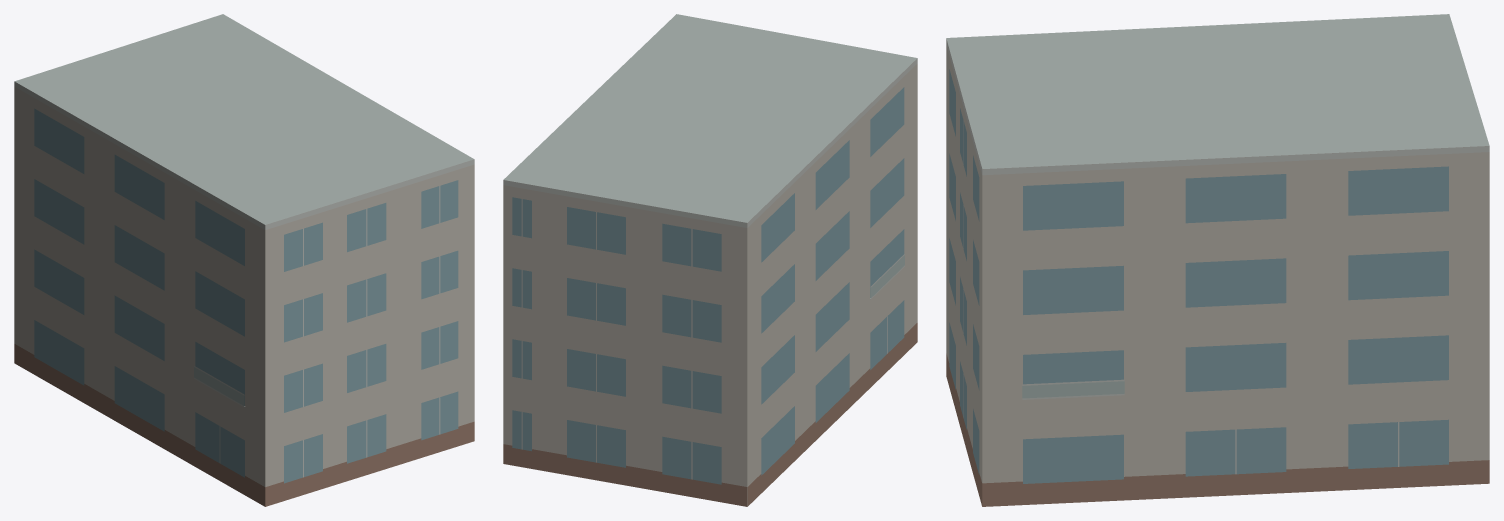
Rendered from survey-upis-32895162.glb.
The picture shows the model from 3 angles, left to right: view 1: azimuth 30°, elevation 25°; view 2: azimuth 150°, elevation 25°; view 3: azimuth 270°, elevation 25°; orthographic projection. The views are drawn at different scales.
Visible parts, largest first — view 1: survey-upis-32895162.tmp; view 2: survey-upis-32895162.tmp; view 3: survey-upis-32895162.tmp.
Boxes of the visible parts, x1,y1,x2,y2 form: survey-upis-32895162.tmp: (14, 14, 474, 506); survey-upis-32895162.tmp: (503, 14, 917, 506); survey-upis-32895162.tmp: (946, 14, 1489, 506).
Size of the model in its own units: 13.11 by 13.3 by 19.4.
